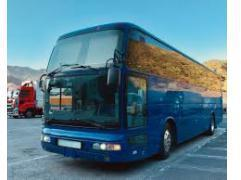bus: (38, 22, 222, 166)
